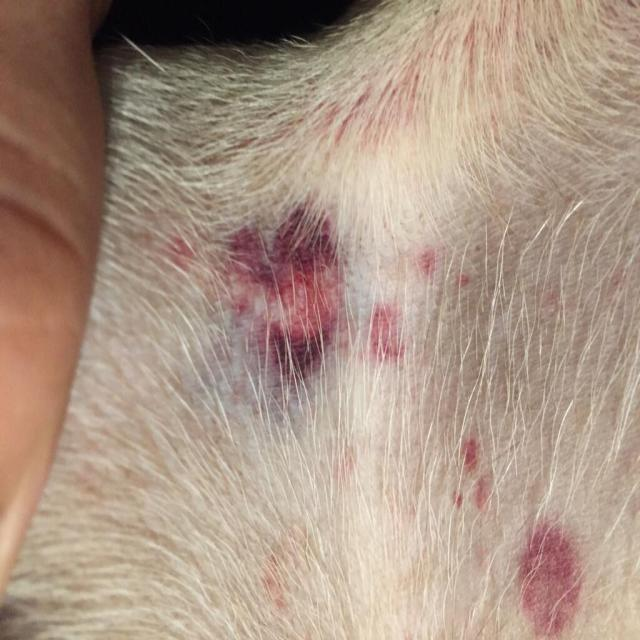allergic dermatitis: (152, 192, 352, 388), (514, 520, 594, 640), (409, 234, 479, 298), (366, 310, 407, 368)
